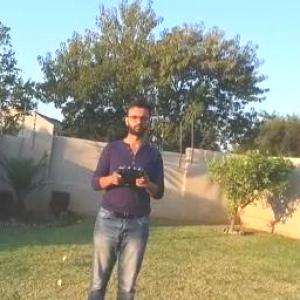follow: (78, 98, 172, 299)
